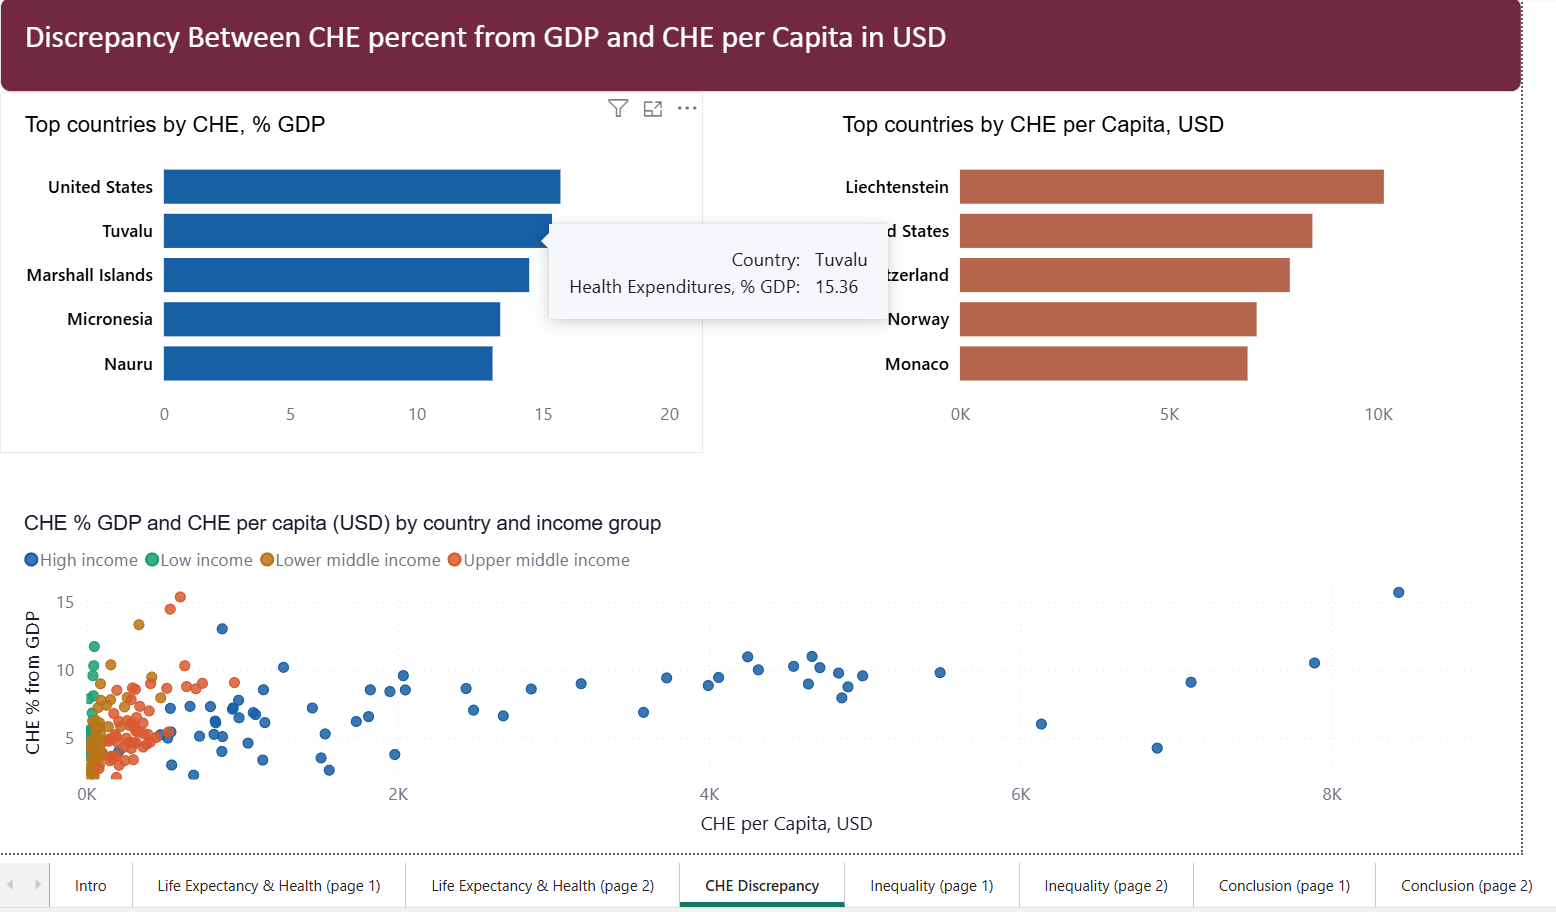

What the dashboard file says about the page in this screenshot:
{"tool":"powerbi","page":{"name":"CHE Discrepancy","canvas":[1280,720],"ordinal":3},"visuals":[{"type":"scatterChart","title":"CHE %  GDP and CHE per capita (USD) by country and income group","fields":{"X":["Avg(chex_pc.chex_pc)"],"Y":["Avg(che_gdp.che_pct_gdp)"],"Category":["country.country_name"],"Series":["income_group.incomegroup_name"]},"box":[0,416,1280,304],"z":0},{"type":"barChart","title":"Top countries by CHE, % GDP","fields":{"Category":["country.country_name"],"Y":["Avg(che_gdp.che_pct_gdp)"]},"box":[0,80,592,304],"z":1000},{"type":"barChart","title":"Top countries by CHE per Capita, USD","fields":{"Category":["country.country_name"],"Y":["Avg(chex_pc.chex_pc)"]},"box":[688,80,576,304],"z":2000},{"type":"textbox","box":[0,0,1280,80],"z":3000}]}

Visuals, with their boxes on the page's 1280x720 design canvas (x1, y1, x2, y2). These are canvas units, not pixel positions in the 1556x912 screenshot, which may show the page scaled, cropped or inside an application window:
"CHE %  GDP and CHE per capita (USD) by country and income group" scatterChart: 0,416,1280,720
"Top countries by CHE, % GDP" barChart: 0,80,592,384
"Top countries by CHE per Capita, USD" barChart: 688,80,1264,384
textbox: 0,0,1280,80
